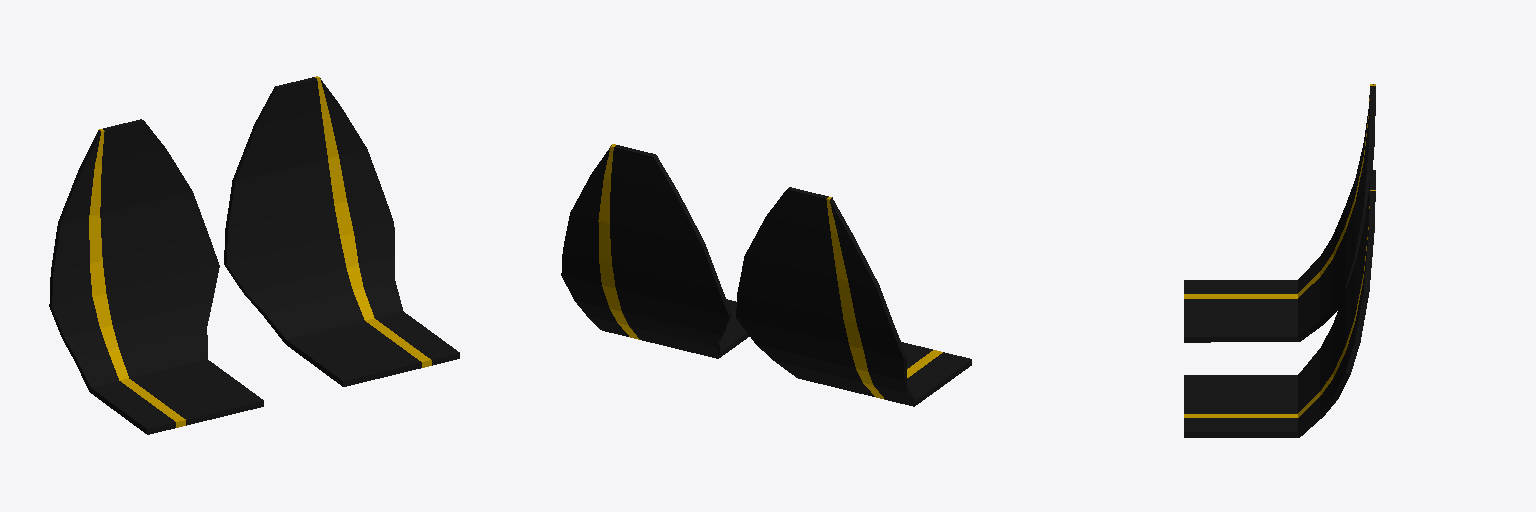
Rendered from Asientos.obj.
The picture shows the model from 3 angles: view 1: azimuth 30°, elevation 25°; view 2: azimuth 150°, elevation 25°; view 3: azimuth 270°, elevation 25°; orthographic projection.
Parts seen in each view (by area): view 1: Asientos; view 2: Asientos; view 3: Asientos.
Boxes of the visible parts, x1=… form: Asientos: x1=49, y1=76, x2=459, y2=434; Asientos: x1=561, y1=144, x2=971, y2=406; Asientos: x1=1184, y1=84, x2=1375, y2=437.
Bounding box in the file's own units: 0.942 × 0.622 × 0.4566.